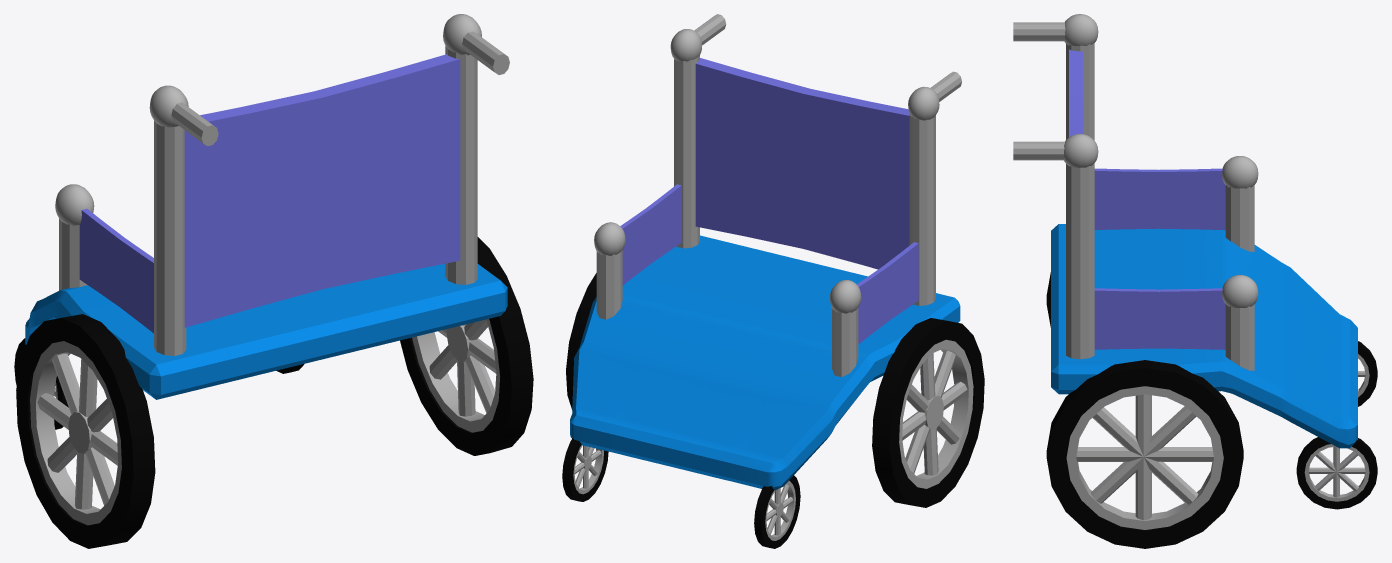
Rendered from cadeira de rodas Criança.fbx.
3 renders of one model, left to right at view 1: azimuth 30°, elevation 25°; view 2: azimuth 150°, elevation 25°; view 3: azimuth 270°, elevation 25°, orthographic. The views are drawn at different scales.
Parts seen in each view (by area): view 1: polySurface235; view 2: polySurface235; view 3: polySurface235.
Boxes of the visible parts, bbox=[...] form: polySurface235: bbox=[14, 14, 533, 548]; polySurface235: bbox=[562, 14, 984, 548]; polySurface235: bbox=[1013, 14, 1377, 548].
Size of the model in its own units: 26.81 by 24.79 by 29.45.
